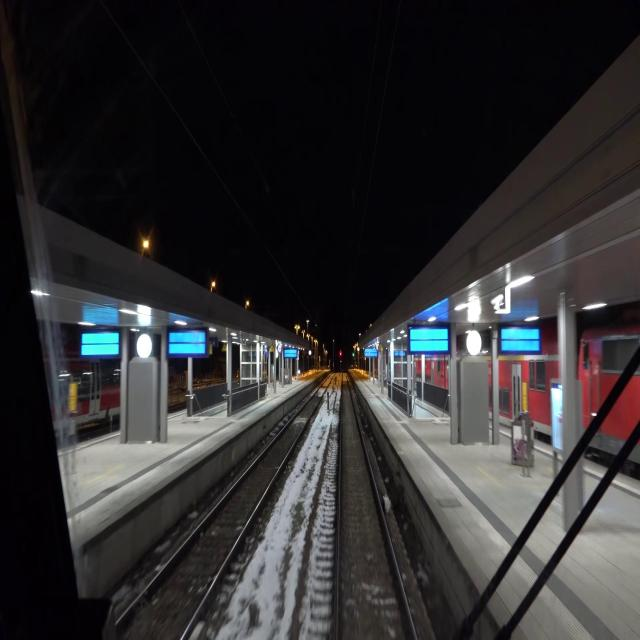rail-track: (107, 385, 325, 639), (339, 376, 412, 639)
